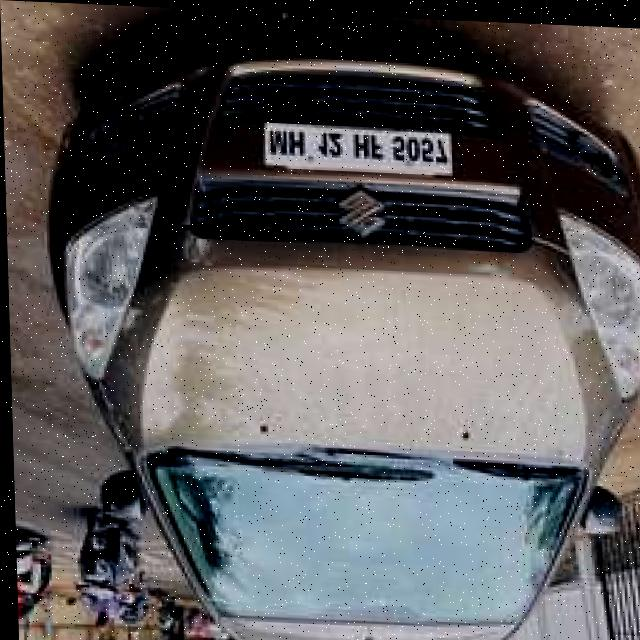plate: (260, 120, 453, 171)
